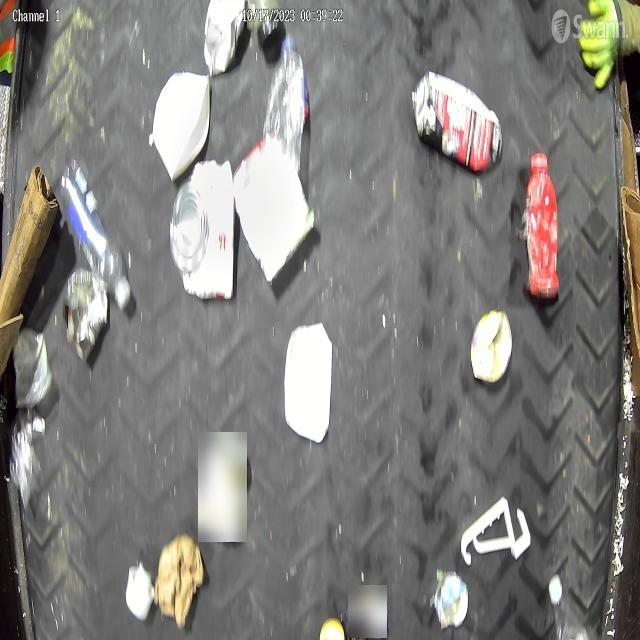plastic_bottle: (60, 157, 132, 305), (264, 36, 306, 171)
